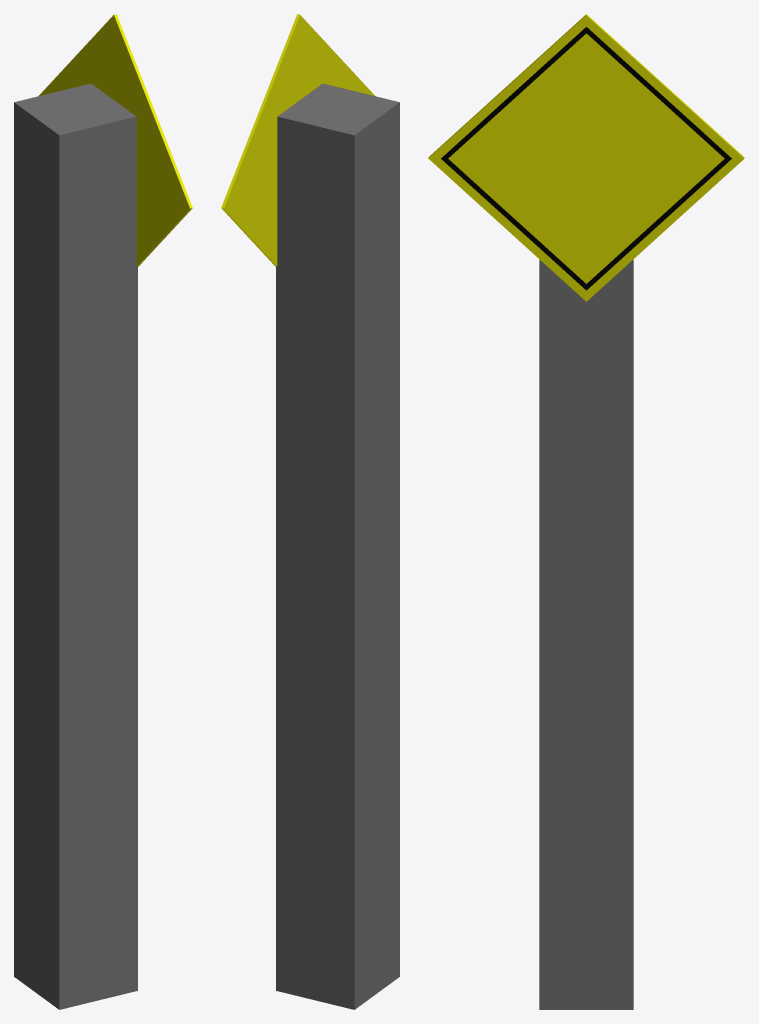
The model's file is walkin_sign.gltf.
3 renders of one model, left to right at view 1: azimuth 30°, elevation 25°; view 2: azimuth 150°, elevation 25°; view 3: azimuth 270°, elevation 25°, orthographic. The views are drawn at different scales.
Parts seen in each view (by area): view 1: Poste, Cube; view 2: Poste, Cube; view 3: Poste, Cube.
Part boxes in pixels (<box>): Poste: <box>14,83,137,1009</box>; Cube: <box>38,14,192,266</box>; Poste: <box>276,83,399,1009</box>; Cube: <box>221,14,375,266</box>; Poste: <box>539,259,633,1009</box>; Cube: <box>428,14,744,301</box>.
Size of the model in its own units: 0.2036 by 2.34 by 0.6726.
